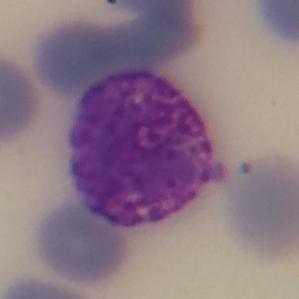Basophil: (56, 62, 229, 245)
RBC: (30, 196, 134, 287), (221, 148, 299, 258), (35, 21, 128, 92), (107, 0, 200, 66), (0, 55, 43, 144), (250, 0, 299, 50), (0, 273, 95, 298)
